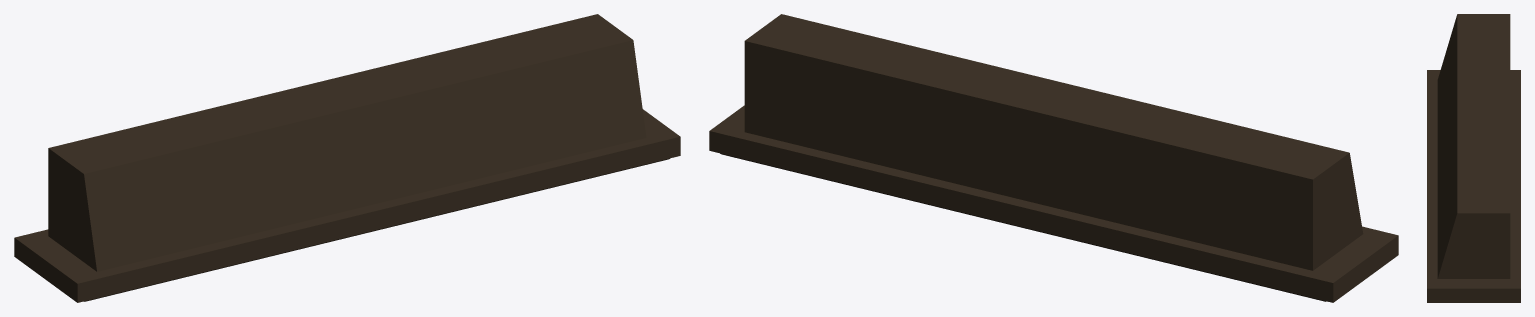
The model's file is Bench.fbx.
3 renders of one model, left to right at view 1: azimuth 30°, elevation 25°; view 2: azimuth 150°, elevation 25°; view 3: azimuth 270°, elevation 25°, orthographic. The views are drawn at different scales.
Visible parts, largest first — view 1: Bench2; view 2: Bench2; view 3: Bench2.
Boxes of the visible parts, box(x1,y1,x2,y2) form: Bench2: box(14, 14, 680, 302); Bench2: box(709, 14, 1398, 302); Bench2: box(1427, 14, 1520, 302).
Size of the model in its own units: 8.13 by 1.42 by 1.47.
